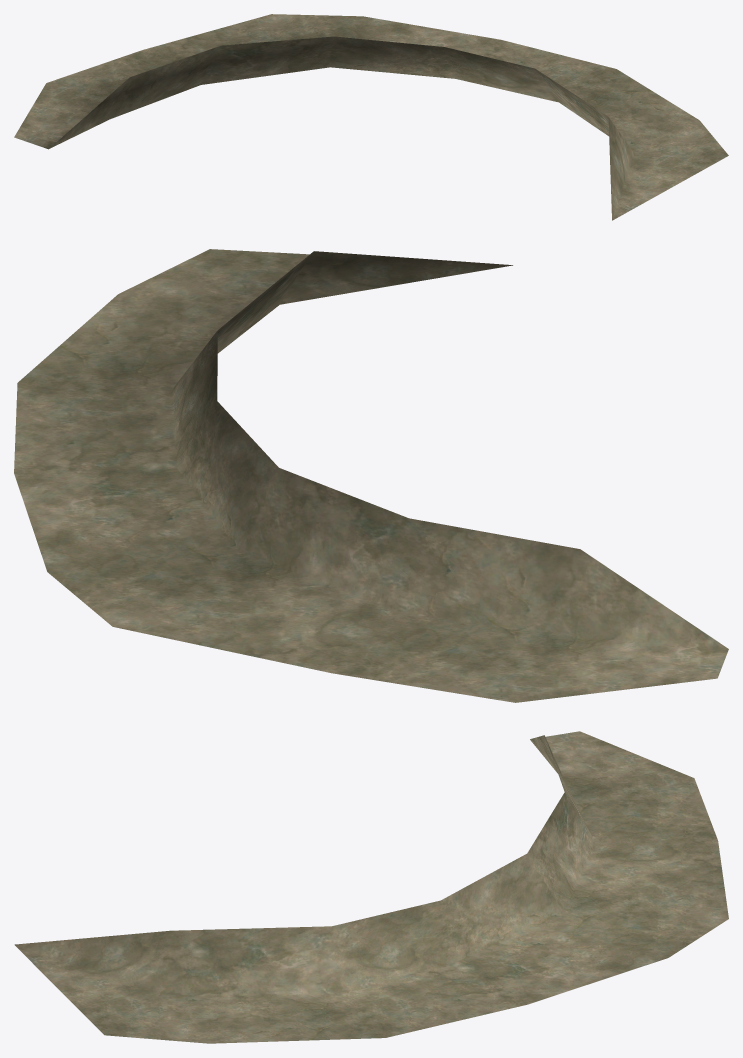
The model's file is EKH_THRONE_PS_TH_OBJECT69.fbx.
3 views of the same model, one above another, from view 1: azimuth 30°, elevation 25°; view 2: azimuth 150°, elevation 25°; view 3: azimuth 270°, elevation 25° (orthographic). The views are drawn at different scales.
Parts seen in each view (by area): view 1: EKH_THRONE_PS_TH_OBJECT69; view 2: EKH_THRONE_PS_TH_OBJECT69; view 3: EKH_THRONE_PS_TH_OBJECT69.
Part boxes in pixels (x1=…): EKH_THRONE_PS_TH_OBJECT69: x1=14, y1=14, x2=728, y2=220; EKH_THRONE_PS_TH_OBJECT69: x1=14, y1=249, x2=728, y2=702; EKH_THRONE_PS_TH_OBJECT69: x1=14, y1=731, x2=728, y2=1043.
Bounding box in the file's own units: 55667 × 4744 × 53836.
1 material, 1 textured.
